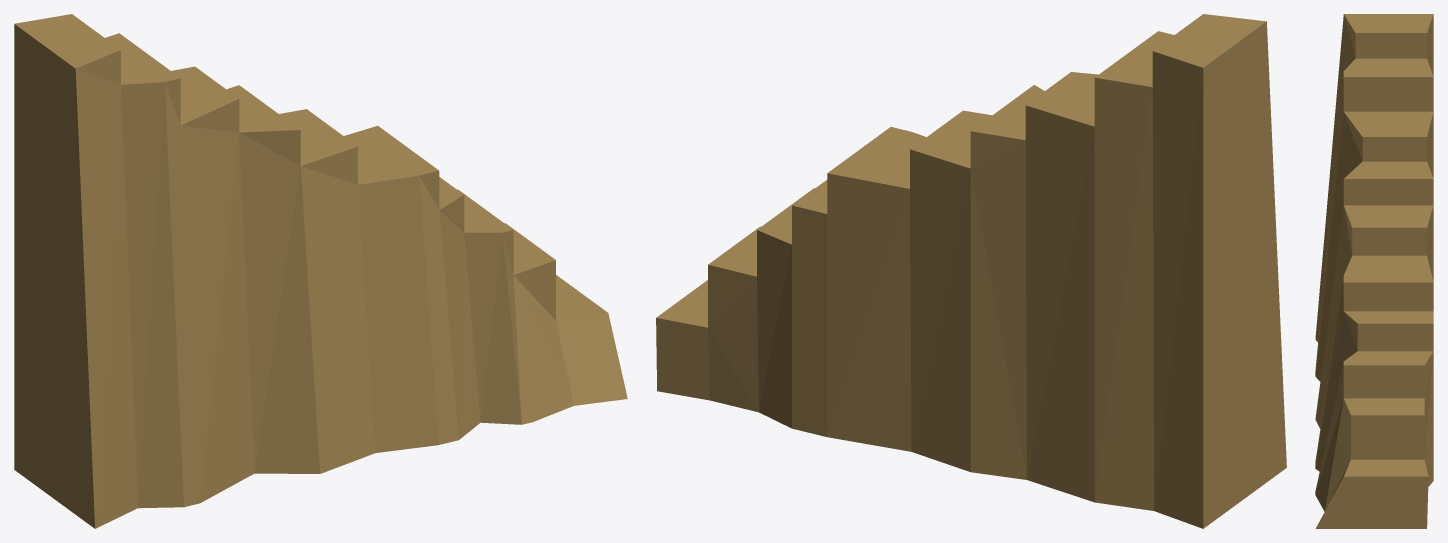
File: Terrain_Tile_Dirt_Stairs_02.fbx
3 renders of one model, left to right at view 1: azimuth 30°, elevation 25°; view 2: azimuth 150°, elevation 25°; view 3: azimuth 270°, elevation 25°, orthographic. The views are drawn at different scales.
Visible parts, largest first — view 1: Terrain_Tile_Dirt_Stairs_02; view 2: Terrain_Tile_Dirt_Stairs_02; view 3: Terrain_Tile_Dirt_Stairs_02.
Part boxes in pixels (x1,y1,x2,y2): Terrain_Tile_Dirt_Stairs_02: [14, 14, 627, 528]; Terrain_Tile_Dirt_Stairs_02: [656, 14, 1286, 528]; Terrain_Tile_Dirt_Stairs_02: [1315, 14, 1433, 528].
Bounding box in the file's own units: 157 × 126 × 41.44.
